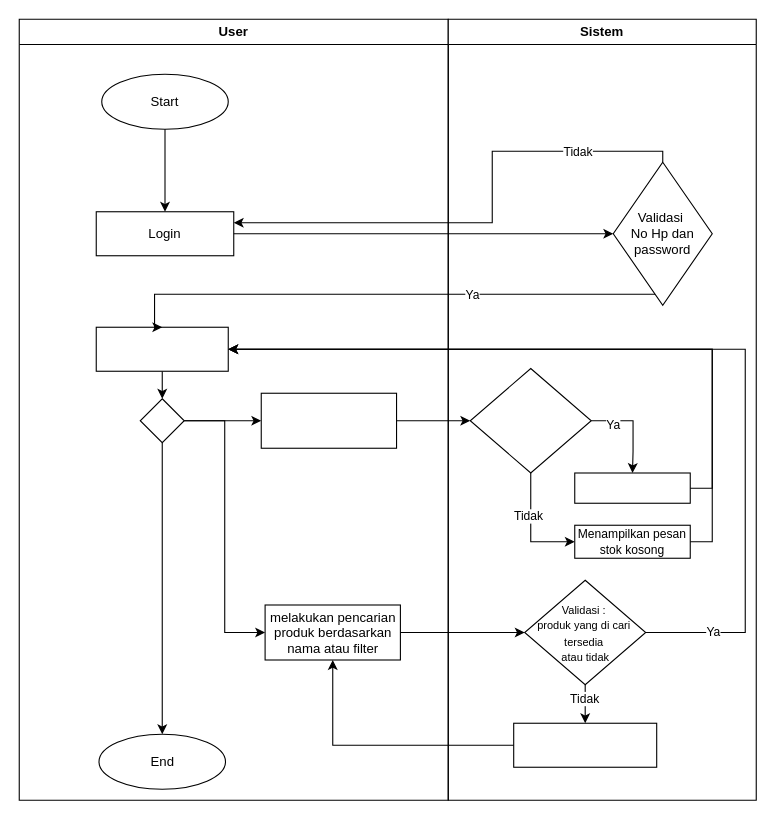
Some shapes in this 776 by 820 pixel diagram are drawn without their labels. The centre of each missing label's shape, as x and y in pixels:
Halaman Katalog Produk: point 161,348
katalog dengan pesan "produk tidak tersedia": point 585,744
Menambahkan produk ke dalam keranjang belanja: point 328,420
Menampilkan pesan berhasil: point 632,487
Validasi : stok produk tersedia atau tidak: point 530,420
